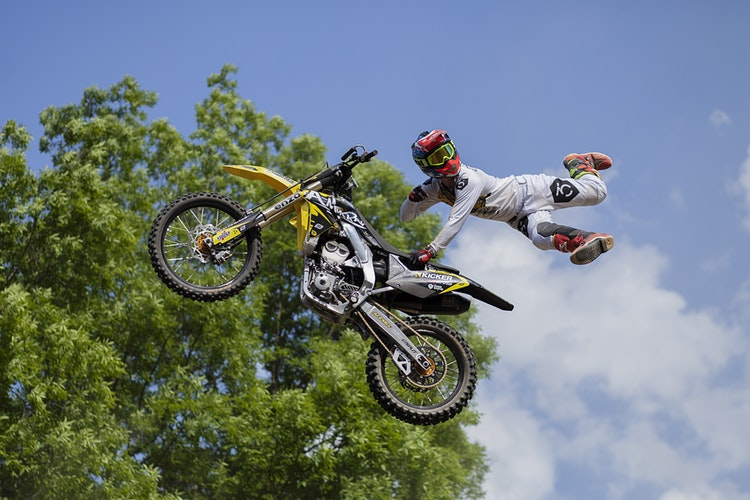helmet: (404, 129, 459, 184)
